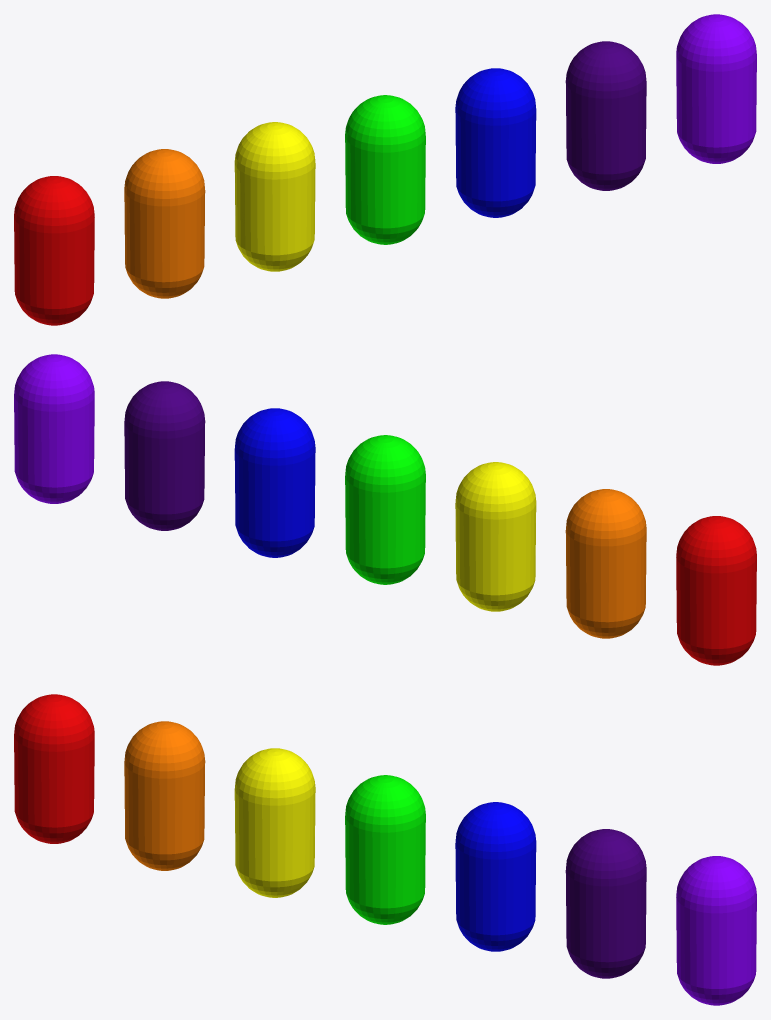
The model's file is Creep.fbx.
3 views of the same model, one above another, from view 1: azimuth 30°, elevation 25°; view 2: azimuth 150°, elevation 25°; view 3: azimuth 330°, elevation 25° (orthographic).
Visible parts, largest first — view 1: GreenCreep, RedCreep, PurpleCreep, IndigoCreep, OrangeCreep, BlueCreep, YellowCreep; view 2: GreenCreep, RedCreep, PurpleCreep, IndigoCreep, OrangeCreep, BlueCreep, YellowCreep; view 3: GreenCreep, PurpleCreep, RedCreep, IndigoCreep, OrangeCreep, BlueCreep, YellowCreep.
Boxes of the visible parts, box(x1,y1,x2,y2) form: GreenCreep: box(345, 95, 425, 244); RedCreep: box(14, 176, 94, 325); PurpleCreep: box(676, 14, 756, 163); IndigoCreep: box(565, 41, 646, 190); OrangeCreep: box(124, 149, 205, 298); BlueCreep: box(455, 68, 536, 217); YellowCreep: box(234, 122, 315, 271); GreenCreep: box(345, 435, 425, 584); RedCreep: box(676, 516, 756, 665); PurpleCreep: box(14, 354, 94, 503); IndigoCreep: box(124, 381, 205, 530); OrangeCreep: box(565, 489, 646, 638); BlueCreep: box(234, 408, 315, 557); YellowCreep: box(455, 462, 536, 611); GreenCreep: box(345, 775, 425, 924); PurpleCreep: box(676, 856, 756, 1005); RedCreep: box(14, 694, 94, 843); IndigoCreep: box(565, 829, 646, 978); OrangeCreep: box(124, 721, 205, 870); BlueCreep: box(455, 802, 536, 951); YellowCreep: box(234, 748, 315, 897).
Bounding box in the file's own units: 254 × 2654 × 493.
